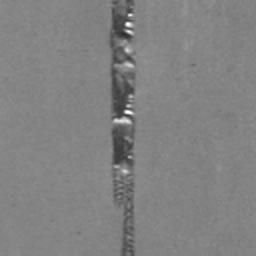Slag inclusion: (108, 0, 138, 256)
